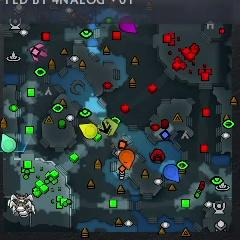p1: (164, 163, 180, 182)
p2: (0, 133, 16, 152)
p3: (119, 17, 137, 33)
p4: (78, 123, 98, 139)
p5: (118, 149, 135, 171)
x1: (29, 43, 48, 61)
x2: (100, 118, 118, 137)
x2Clone: (100, 120, 111, 134)
